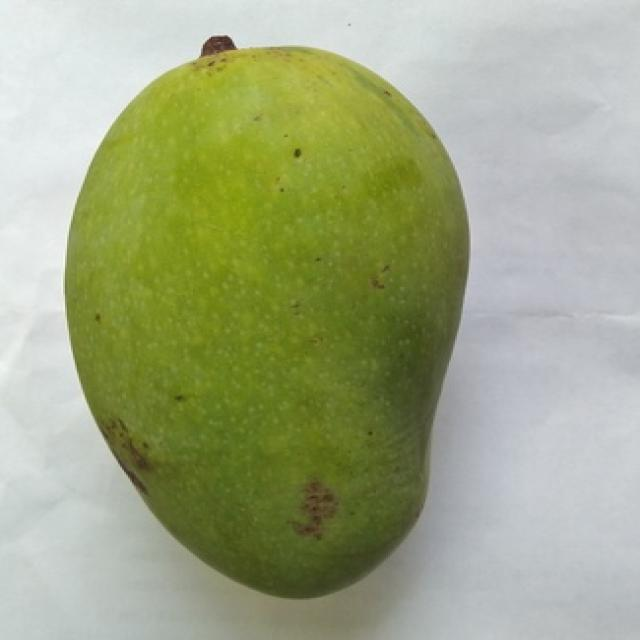Mango: (67, 47, 467, 596)
